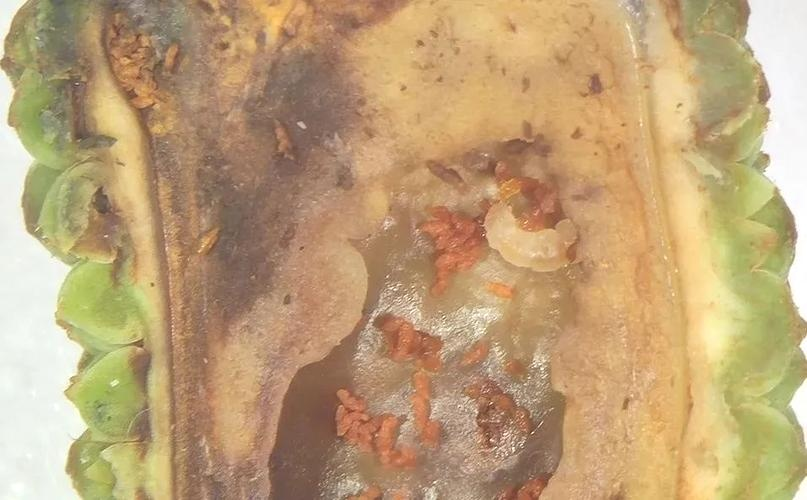Borer: (474, 177, 586, 279)
